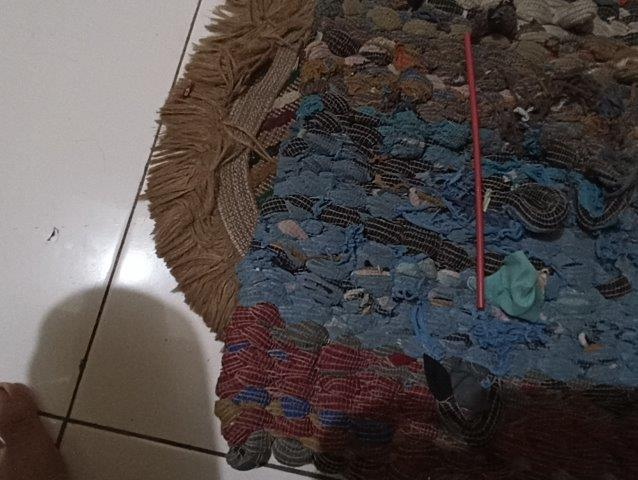sedotan: (464, 36, 484, 307)
